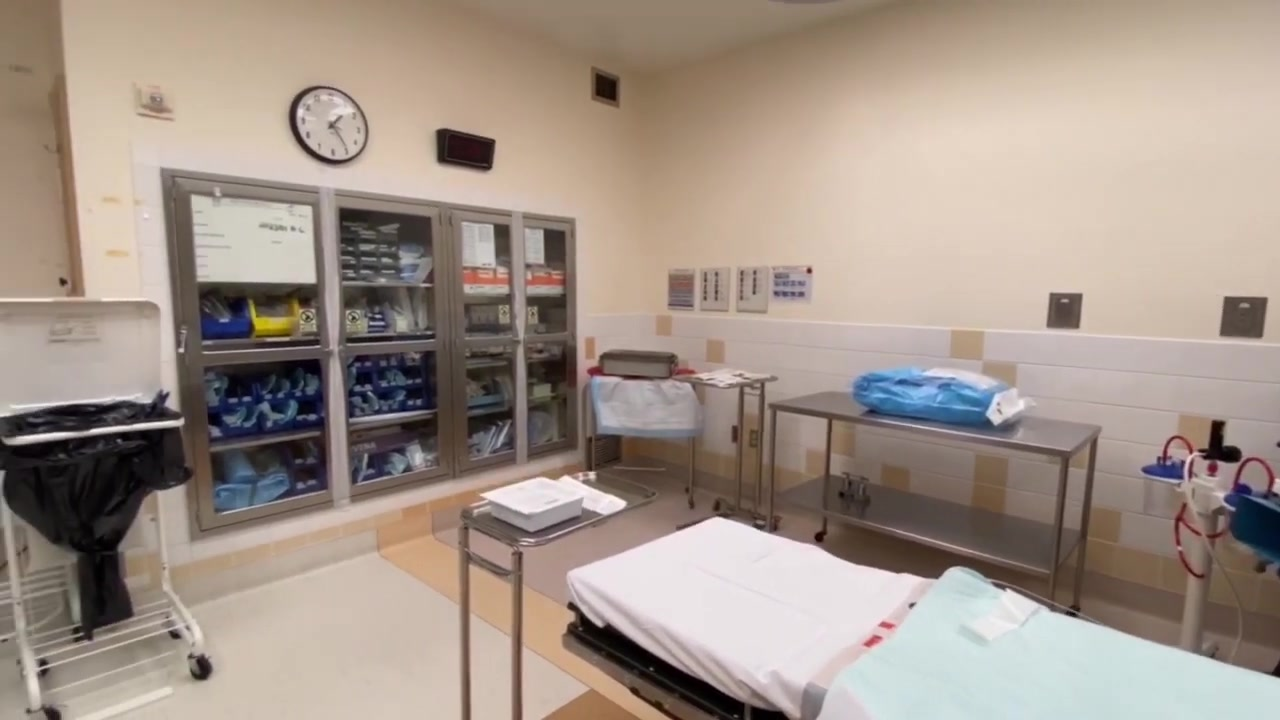cabinet: (159, 166, 580, 542)
operating_bed: (561, 512, 1278, 720)
utility_cart: (761, 385, 1103, 609), (458, 465, 657, 720), (678, 369, 782, 539)
waste_bin: (1, 381, 196, 719)
